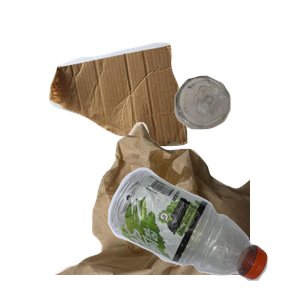cardboard: (46, 40, 226, 179)
glass: (172, 73, 300, 195)
plastic: (105, 165, 300, 300)
trash: (52, 120, 292, 300)
